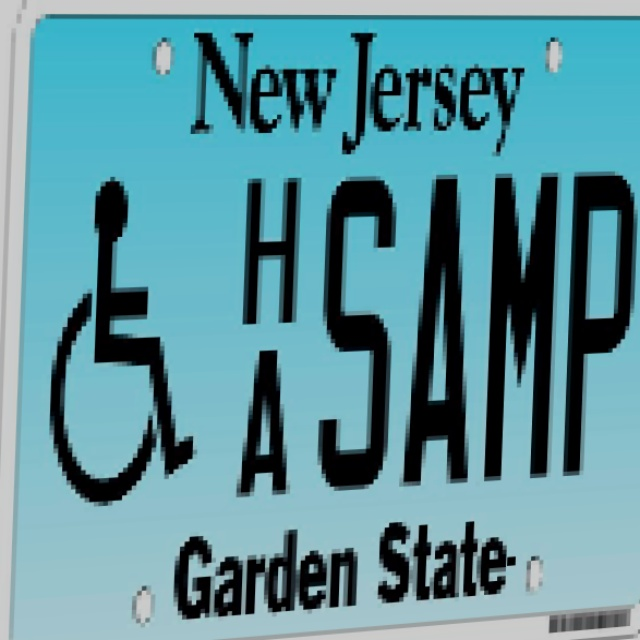ISA: (43, 172, 206, 519)
